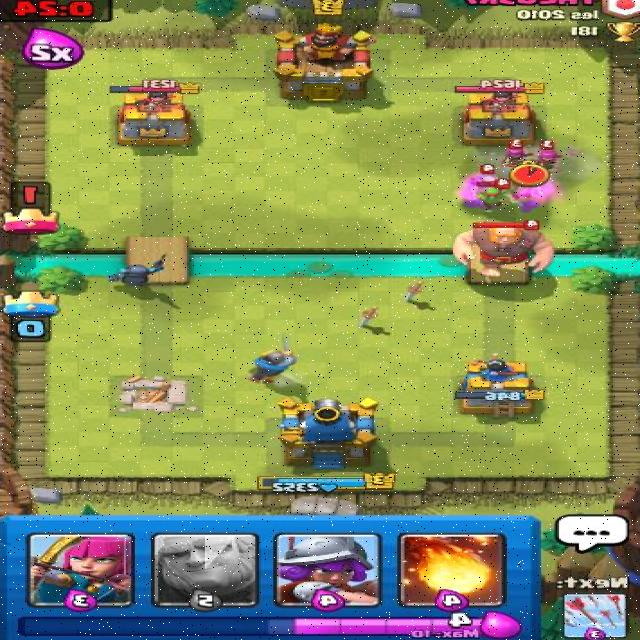Enemy-Archer: (528, 139, 562, 173), (500, 138, 532, 170)
Enemy-Giant: (448, 219, 556, 278)
Enemy-SpearGoblin: (471, 179, 512, 214), (471, 163, 502, 198)
Player-Knight: (242, 330, 296, 386)
Player-MiniPEKKA: (106, 251, 173, 289)
